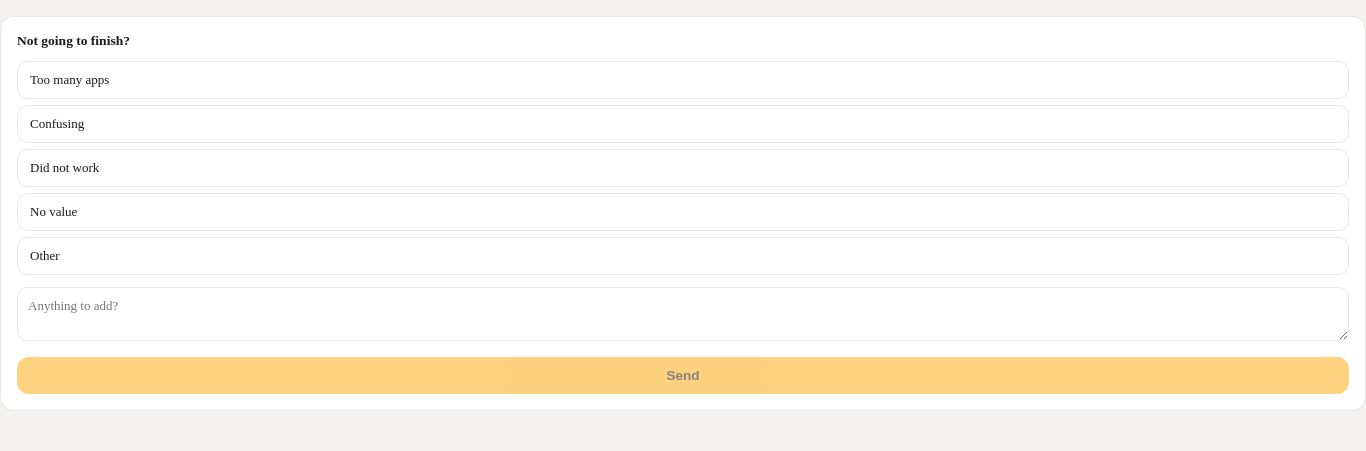
Test: StopReasonCard — why did you stop, in one tap › a refusal shows the service's sentence
The image size is (1366, 451).
Click the radio button "Other".
click(45, 256)  # box top-left (17, 237), bottom-right (1349, 275)
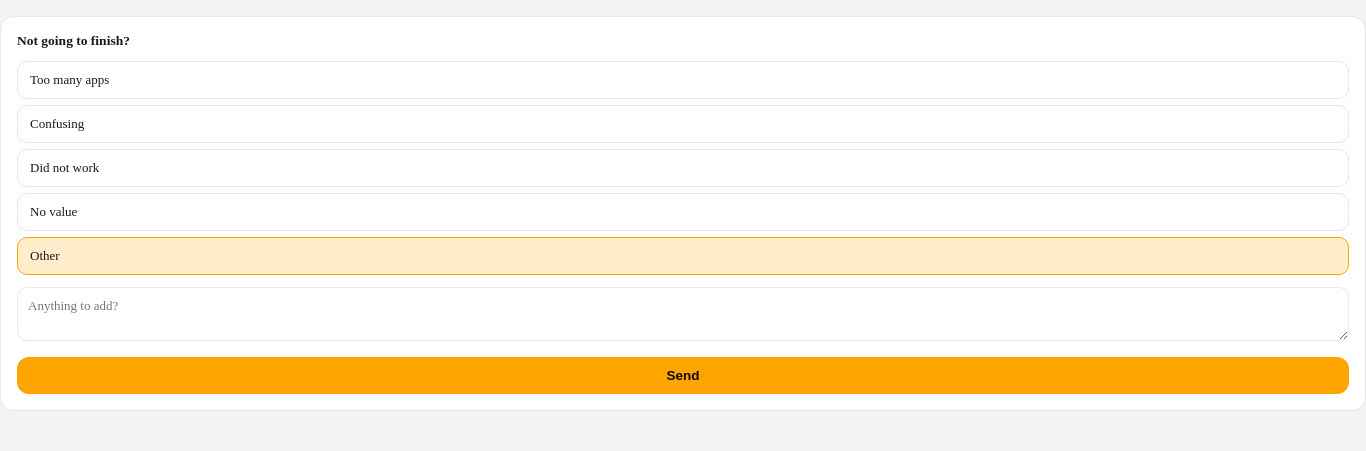
Click the button "Send".
click(683, 376)  # box top-left (17, 357), bottom-right (1349, 394)
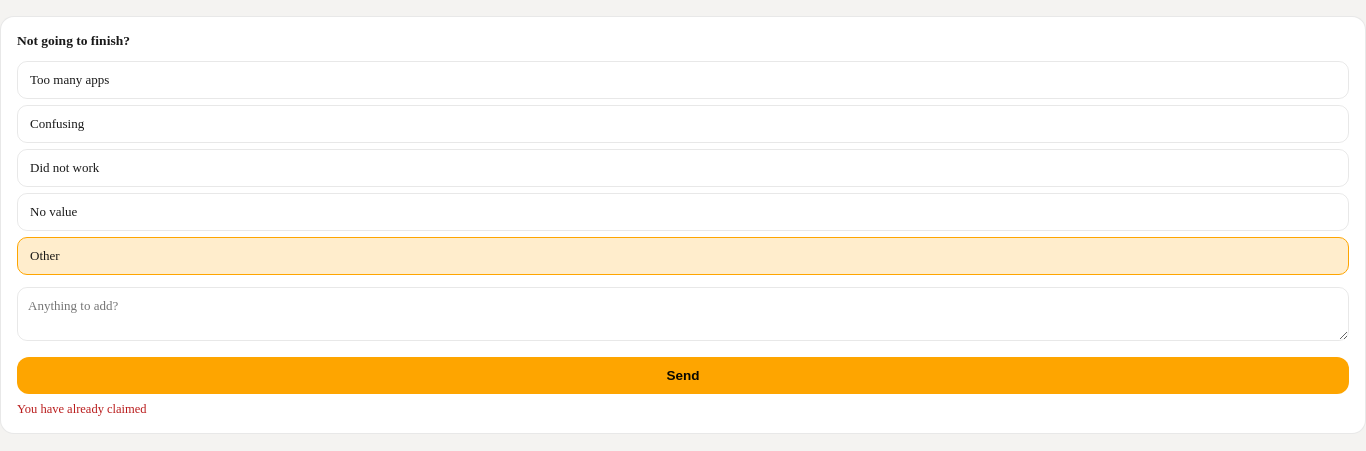
Result: the message reads "You have already claimed" at top-left (17, 402), bottom-right (147, 416)
